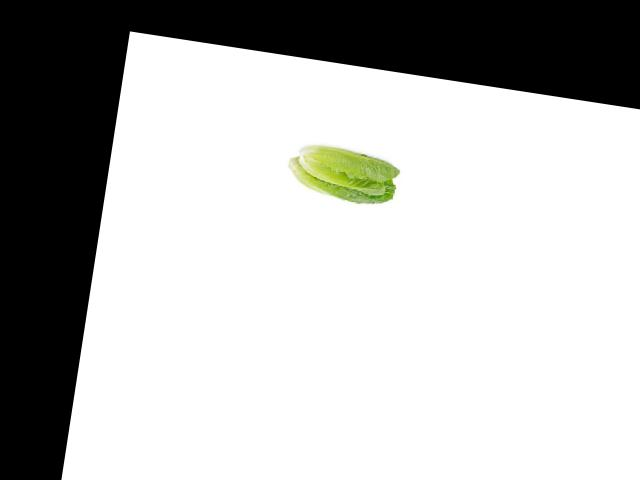lettuce: (285, 134, 404, 208)
